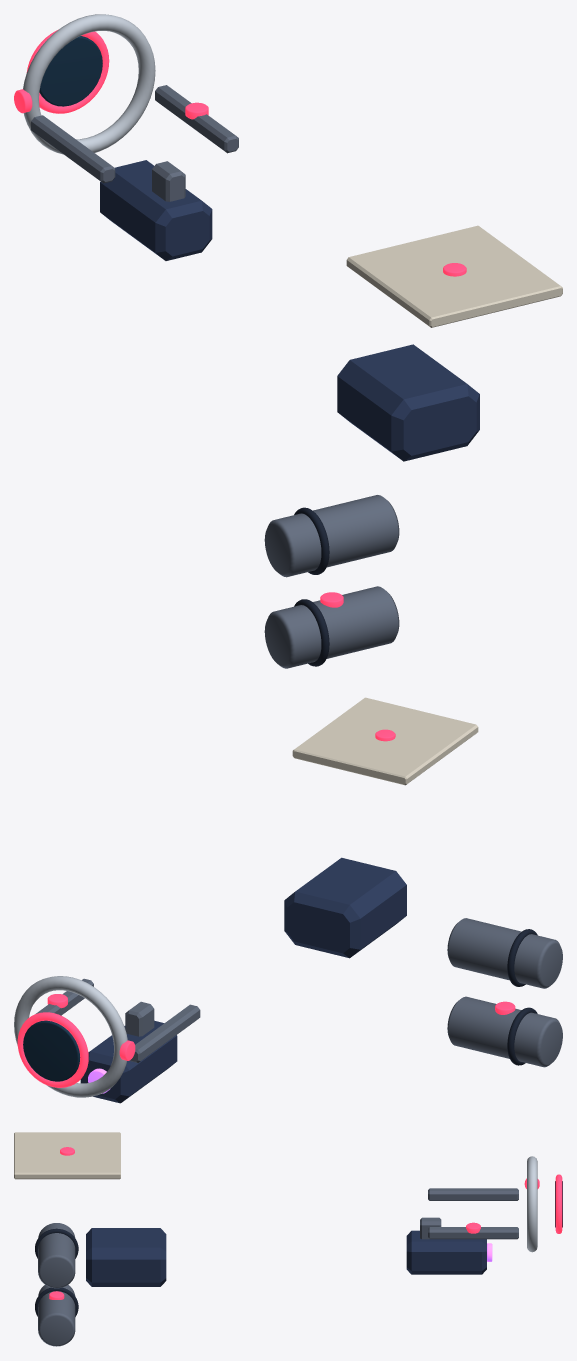
Rendered from tower_filament_peak_s8.glb.
The picture shows the model from 3 angles, top to bottom: view 1: azimuth 30°, elevation 25°; view 2: azimuth 150°, elevation 25°; view 3: azimuth 270°, elevation 25°; orthographic projection. The views are drawn at different scales.
Visible parts, largest first — view 1: filament_dielectric, filament_coupler, filament_cap0.12, filament_cap-0.12, filament_shred_emitter, filament_aperture_ring, filament_lens_b, filament_lens_brace_r, filament_lens_brace_l, filament_lens_b_ring, filament_shred_mount; view 2: filament_dielectric, filament_coupler, filament_cap0.12, filament_cap-0.12, filament_aperture_ring, filament_shred_emitter, filament_lens_b, filament_lens_b_ring, filament_lens_brace_r, filament_shred_mount, filament_cap_rib-0.12, filament_cap_rib0.12; view 3: filament_dielectric, filament_coupler, filament_shred_emitter, filament_cap0.12, filament_cap-0.12, filament_lens_brace_r, filament_lens_brace_l, filament_aperture_ring, filament_lens_b_ring, filament_cap_rib0.12, filament_shred_mount, filament_cap_rib-0.12.
Boxes of the visible parts, x1,y1,x2,y2 form: filament_dielectric: (346,225,562,327); filament_coupler: (337,344,479,461); filament_cap0.12: (264,495,399,577); filament_cap-0.12: (264,586,399,668); filament_shred_emitter: (100,160,212,260); filament_aperture_ring: (23,14,155,154); filament_lens_b: (39,36,102,106); filament_lens_brace_r: (31,115,115,183); filament_lens_brace_l: (155,85,238,153); filament_lens_b_ring: (26,29,109,113); filament_shred_mount: (152,161,185,201); filament_dielectric: (292,697,478,785); filament_coupler: (284,857,406,958); filament_cap0.12: (447,918,562,988); filament_cap-0.12: (447,996,562,1067); filament_aperture_ring: (14,976,127,1097); filament_shred_emitter: (80,1020,177,1103); filament_lens_b: (23,1020,80,1081); filament_lens_b_ring: (17,1012,88,1087); filament_lens_brace_r: (130,1004,200,1062); filament_shred_mount: (125,1001,154,1036); filament_cap_rib-0.12: (507,1007,537,1065); filament_cap_rib0.12: (507,929,537,986); filament_dielectric: (14,1132,120,1179); filament_coupler: (86,1228,166,1286); filament_shred_emitter: (406,1230,486,1274); filament_cap0.12: (38,1223,75,1288); filament_cap-0.12: (38,1285,75,1346); filament_lens_brace_r: (428,1188,518,1200); filament_lens_brace_l: (428,1227,518,1239); filament_aperture_ring: (527,1156,537,1252); filament_lens_b_ring: (555,1174,562,1233); filament_cap_rib0.12: (35,1228,78,1258); filament_shred_mount: (420,1217,441,1239); filament_cap_rib-0.12: (35,1287,78,1316).
Size of the model in its own units: 0.708 by 0.9266 by 2.06.
